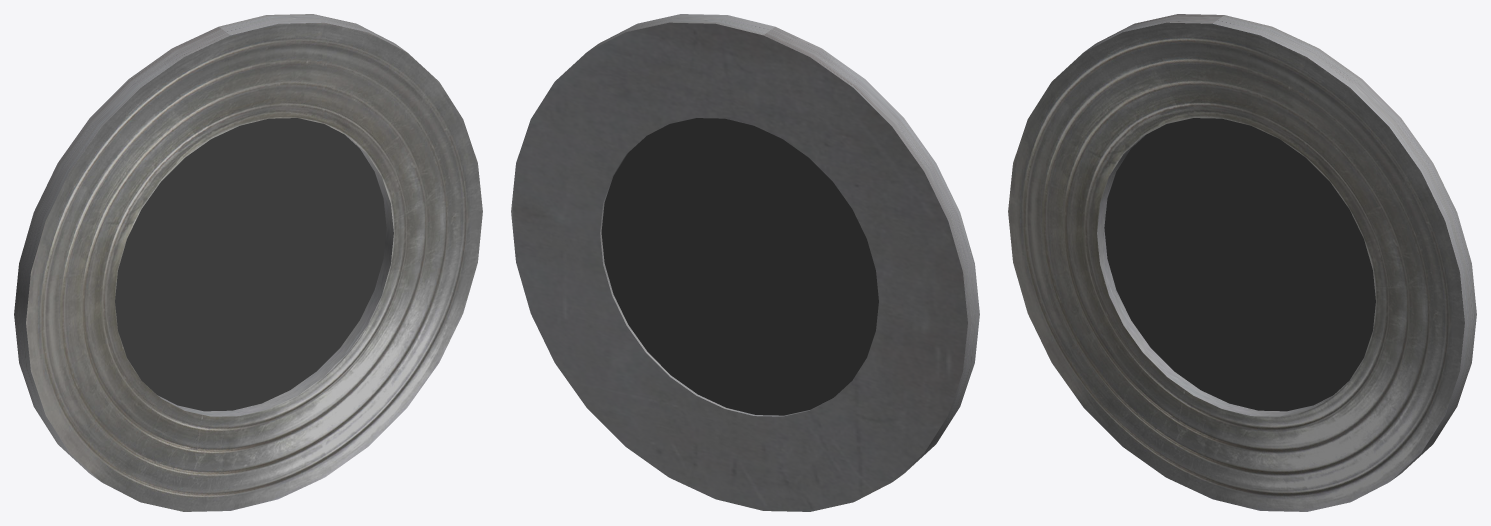
Rendered from Mirror.FBX.
3 views of the same model, side by side, from view 1: azimuth 30°, elevation 25°; view 2: azimuth 150°, elevation 25°; view 3: azimuth 330°, elevation 25° (orthographic).
Visible parts, largest first — view 1: Mirror; view 2: Mirror; view 3: Mirror.
Part boxes in pixels (x1,y1,x2,y2): Mirror: (14,14,482,511); Mirror: (511,14,979,511); Mirror: (1008,14,1476,511).
Size of the model in its own units: 67.16 by 66.8 by 3.04.
2 materials, 1 textured.
